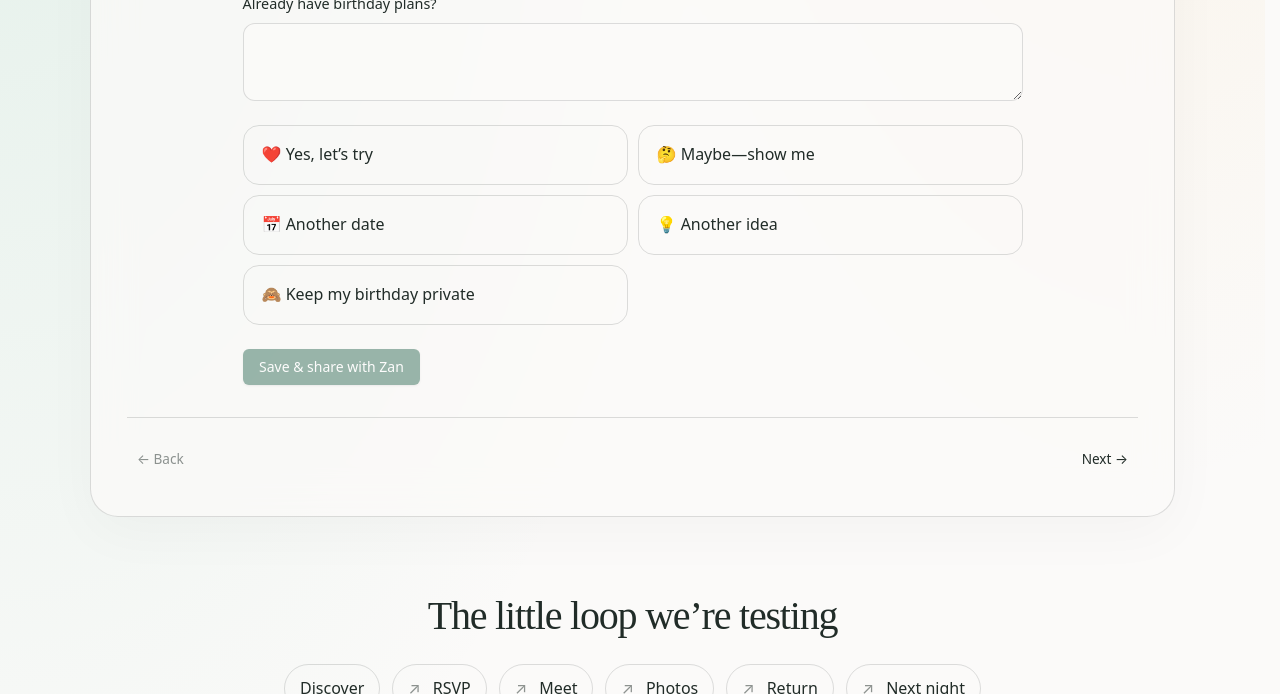
ends with Send to Zan and submits even a private-birthday decision
(page scrolled)
What coordinates should you click on to do the following:
click the button "🙈 Keep my birthday private"
I would click on:
 (435, 294)
Its box is [242, 264, 628, 324].
(page scrolled)
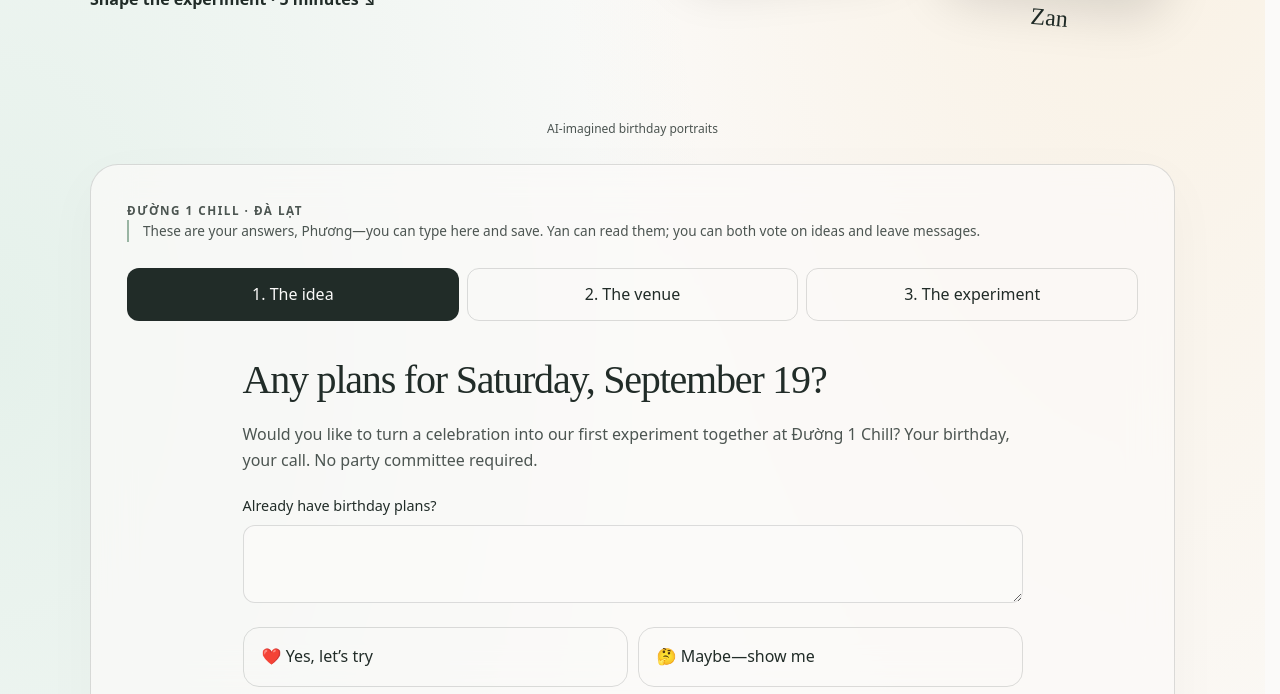
What coordinates should you click on to do the following:
click the button "3. The experiment"
I would click on:
 (972, 294)
Its box is [806, 268, 1138, 321].
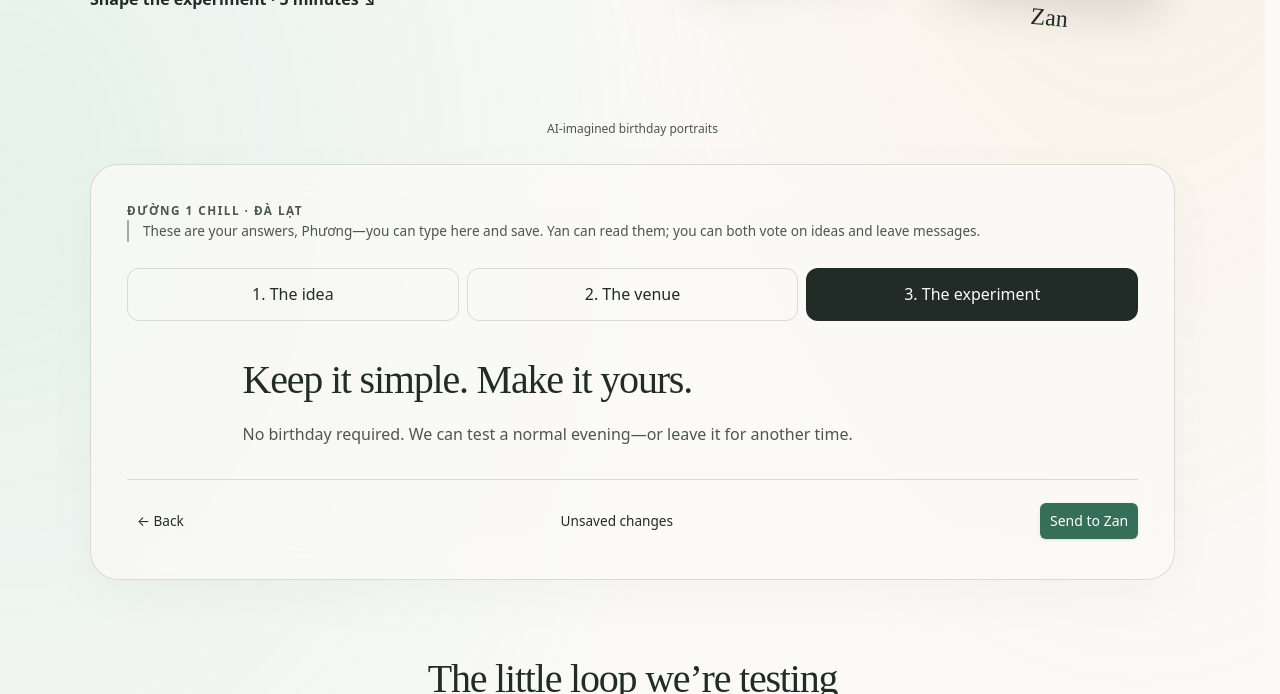
What coordinates should you click on to do the following:
click the button "Send to Zan"
I would click on:
 (1089, 521)
Its box is [1040, 503, 1138, 539].
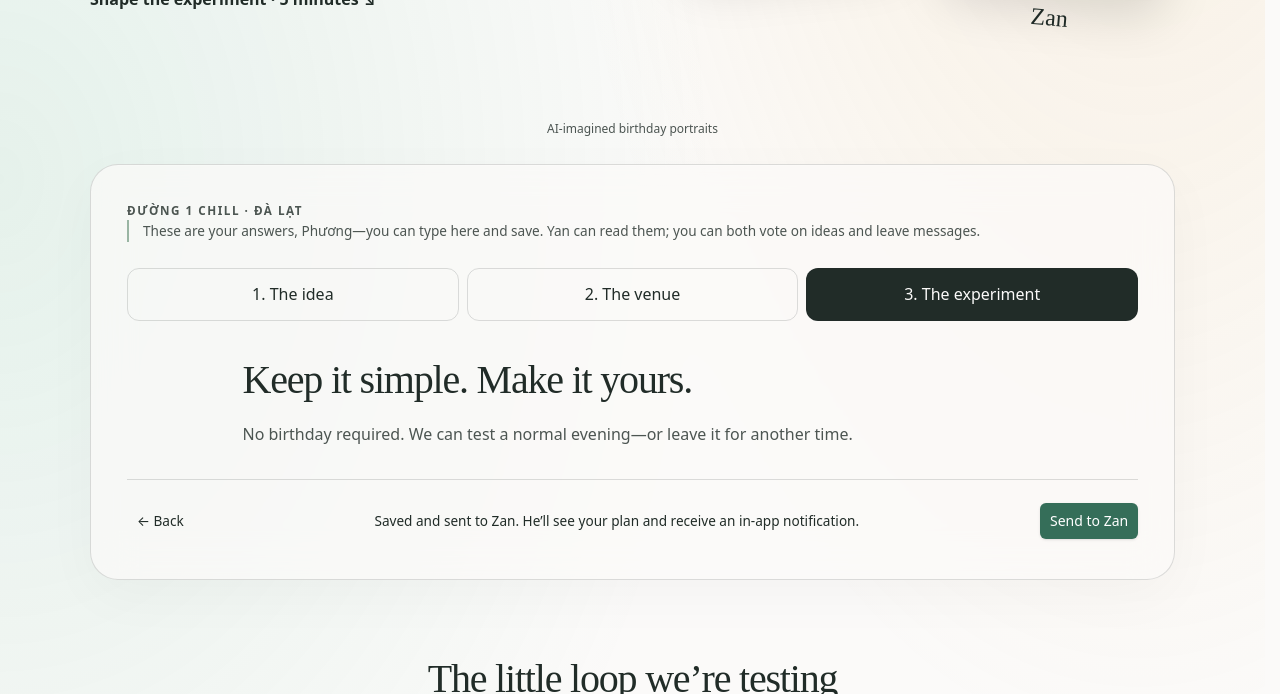
Expected: the text "Saved and sent to Zan. He’ll see your plan and receive an in-app notification." is shown, [374, 510, 859, 533]
